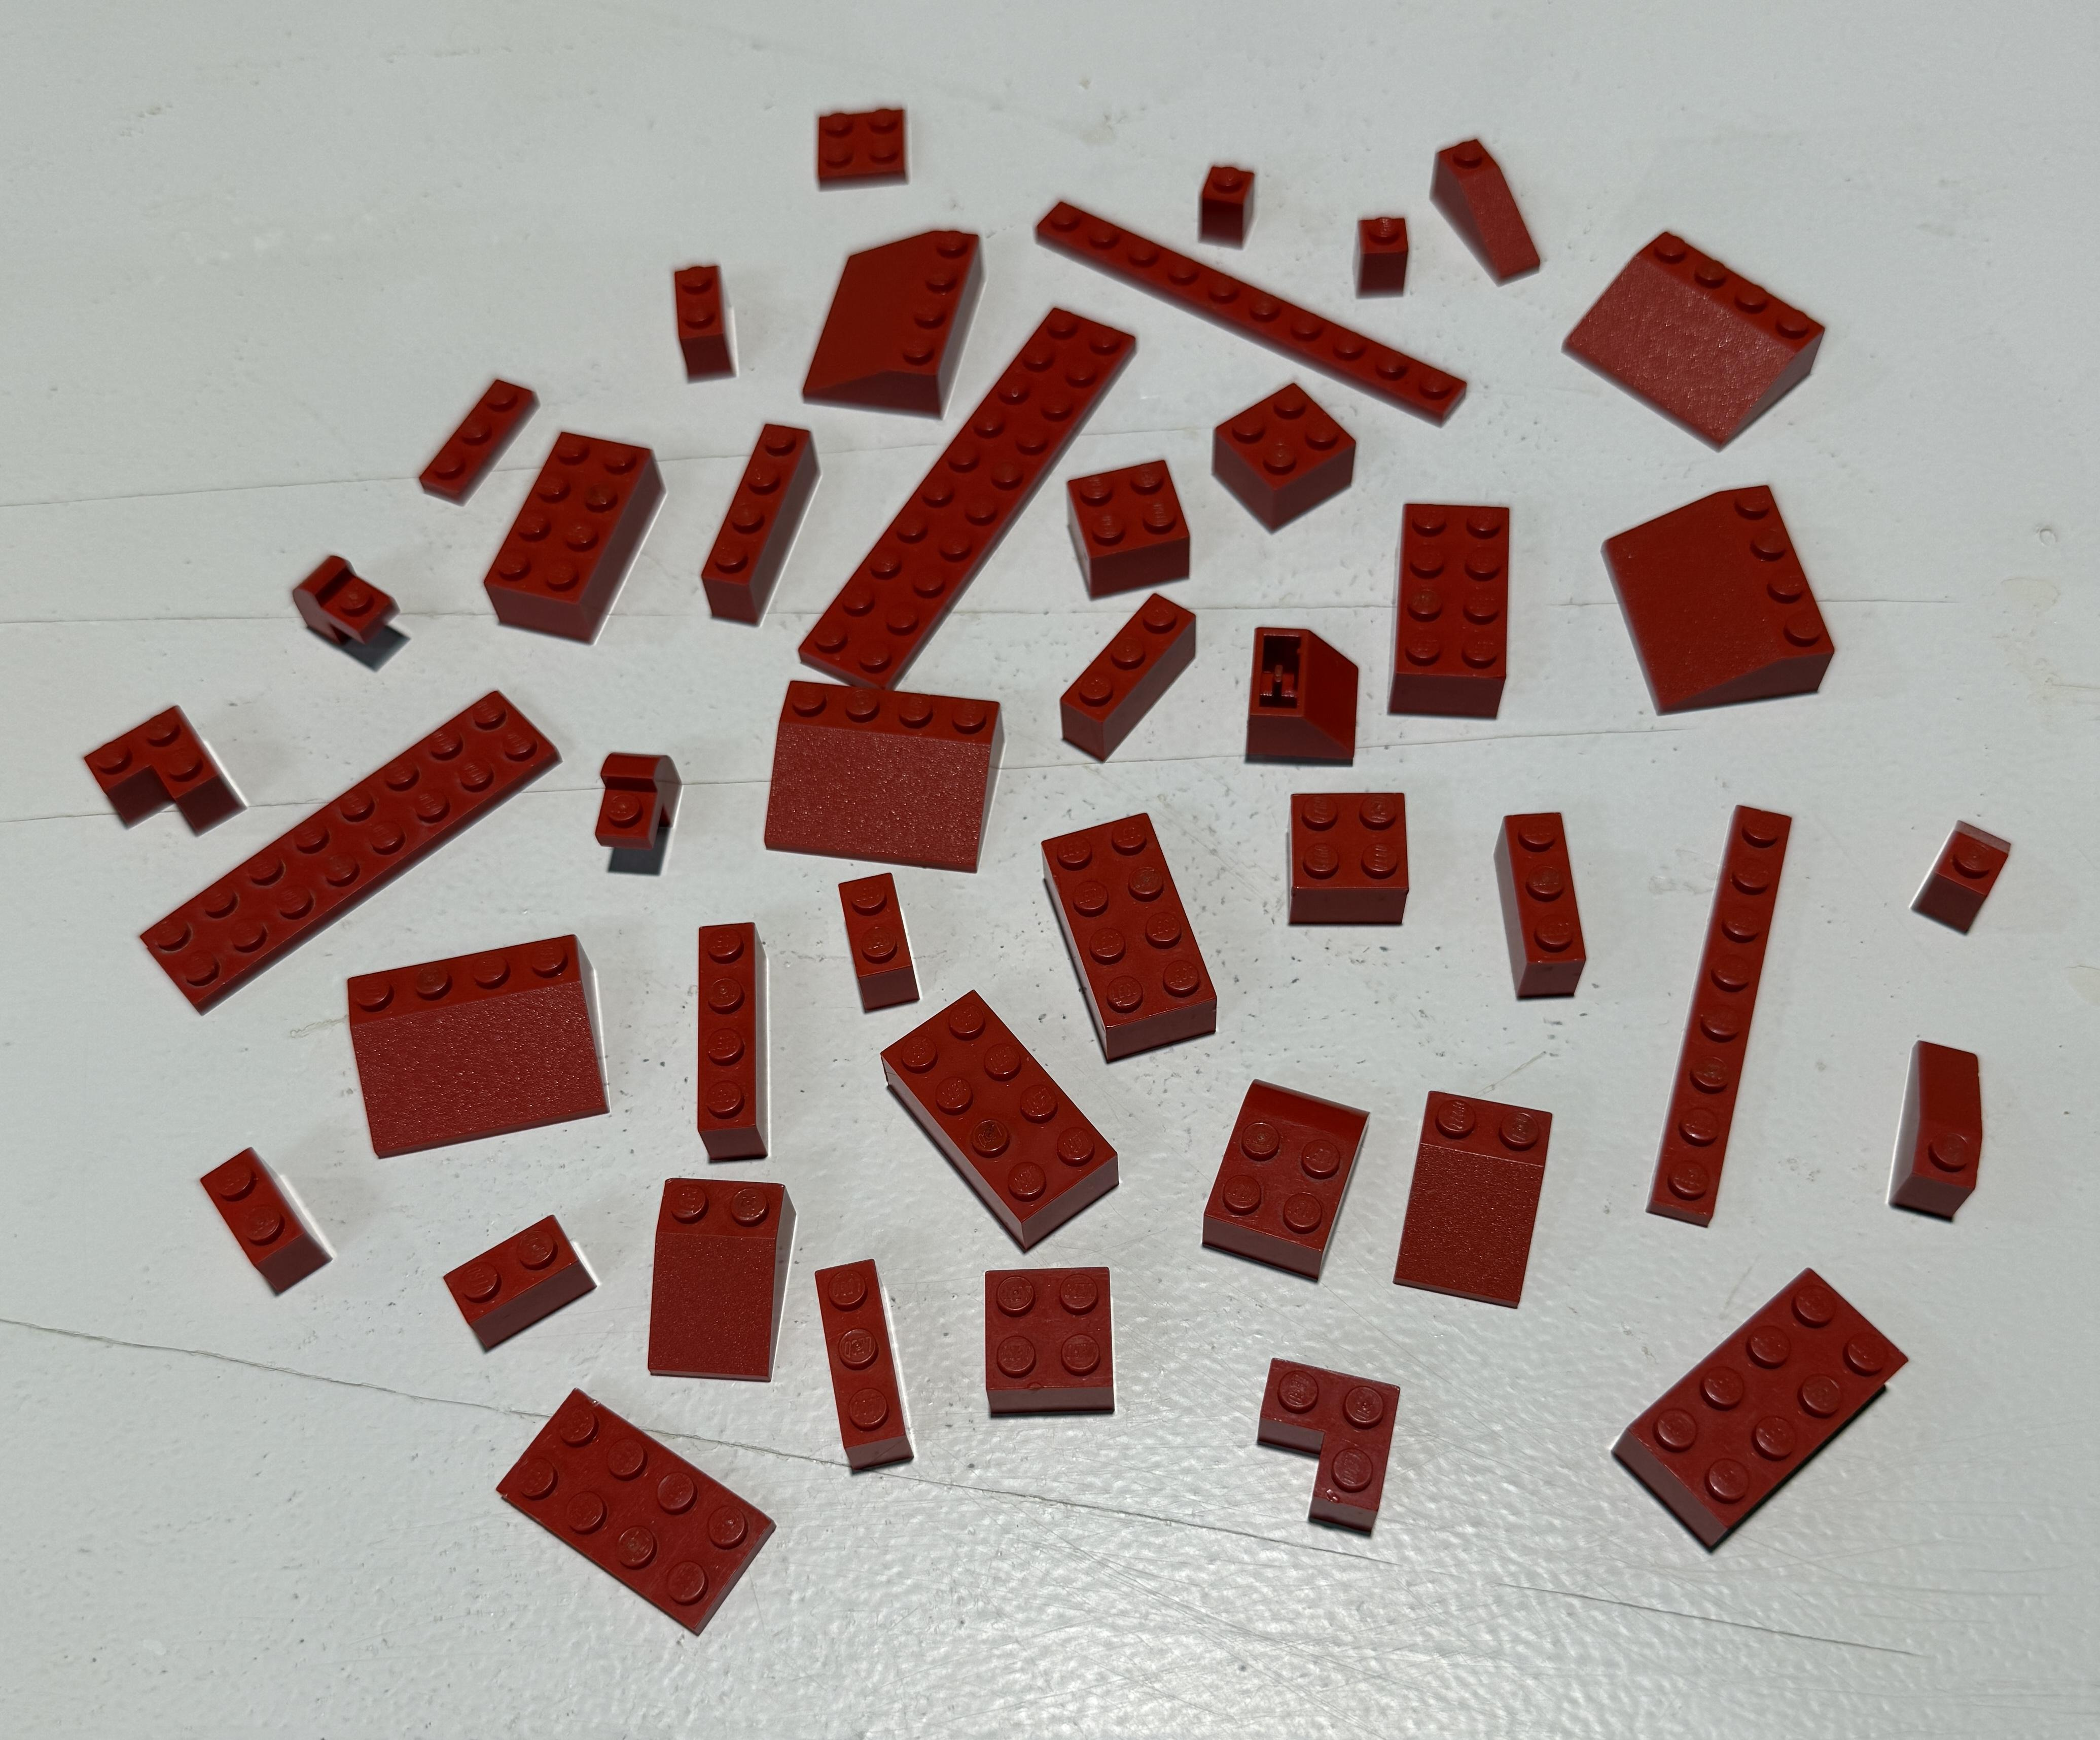Special_02: (1861, 1003, 2022, 1250), (1415, 126, 1549, 300)
brick_1x1: (1184, 139, 1273, 262), (1341, 201, 1425, 312)
brick_1x2: (419, 1187, 612, 1379), (180, 1116, 352, 1315), (820, 856, 931, 1029), (654, 232, 762, 406)
brick_1x3: (1027, 574, 1210, 781), (801, 1231, 937, 1491), (1474, 790, 1608, 1027)
brick_1x4: (682, 411, 828, 643), (677, 901, 797, 1173)
brick_2x2: (949, 1247, 1151, 1444), (1202, 368, 1376, 549), (1045, 438, 1217, 608), (1275, 778, 1425, 947)
brick_2x4: (860, 962, 1132, 1261), (1017, 786, 1244, 1079), (474, 417, 685, 666), (1367, 467, 1545, 743)
plate_2x10: (788, 303, 1172, 690)
plate_2x2: (804, 89, 942, 201)
plate_2x3: (403, 366, 551, 520)
plate_2x4: (1591, 1247, 1927, 1587), (469, 1362, 788, 1656)
plate_8x1: (1024, 183, 1486, 438), (1627, 781, 1819, 1250)
plate_8x2: (126, 668, 577, 1023)
special_04: (49, 656, 260, 872), (1240, 1337, 1420, 1571)
special_05: (581, 734, 699, 896), (286, 540, 413, 659)
special_08: (1558, 199, 1866, 464), (1577, 460, 1851, 753), (340, 914, 630, 1177), (755, 663, 1015, 880), (795, 209, 992, 431)
